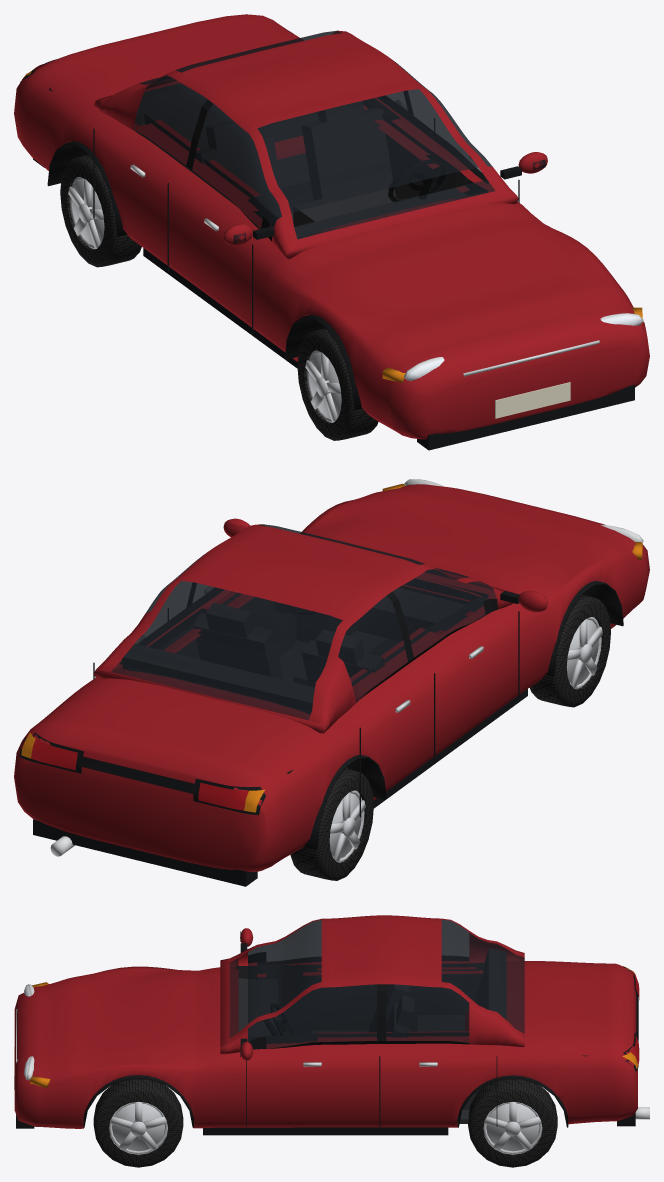
The model's file is car_sedan.glb.
The picture shows the model from 3 angles, top to bottom: view 1: azimuth 30°, elevation 25°; view 2: azimuth 150°, elevation 25°; view 3: azimuth 270°, elevation 25°; orthographic projection. The views are drawn at different scales.
Parts seen in each view (by area): view 1: Body, wheel_RR, wheel_FR, Door_L; view 2: Body, wheel_RR, wheel_FR, Door_L; view 3: Body, Door_L, wheel_FL, wheel_RL.
Boxes of the visible parts, x1,y1,x2,y2 form: Body: (14, 14, 649, 450); wheel_RR: (60, 154, 141, 267); wheel_FR: (297, 328, 378, 440); Door_L: (394, 61, 519, 189); Body: (14, 479, 649, 886); wheel_RR: (290, 768, 373, 880); wheel_FR: (529, 594, 610, 707); Door_L: (191, 522, 246, 610); Body: (14, 915, 649, 1135); Door_L: (247, 984, 379, 1124); wheel_FL: (93, 1079, 183, 1167); wheel_RL: (468, 1079, 557, 1167).
Size of the model in its own units: 2.24 by 1.45 by 4.83.
12 materials, 1 textured.
